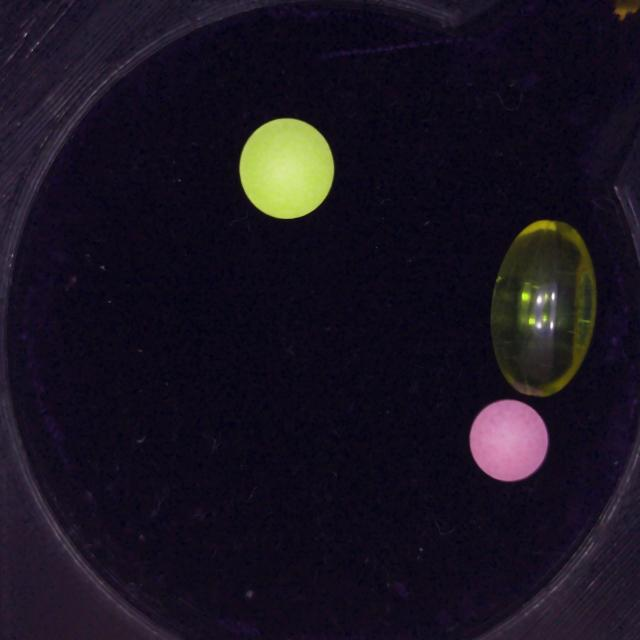Pill: (491, 220, 597, 397), (240, 118, 335, 219), (469, 399, 548, 482)
